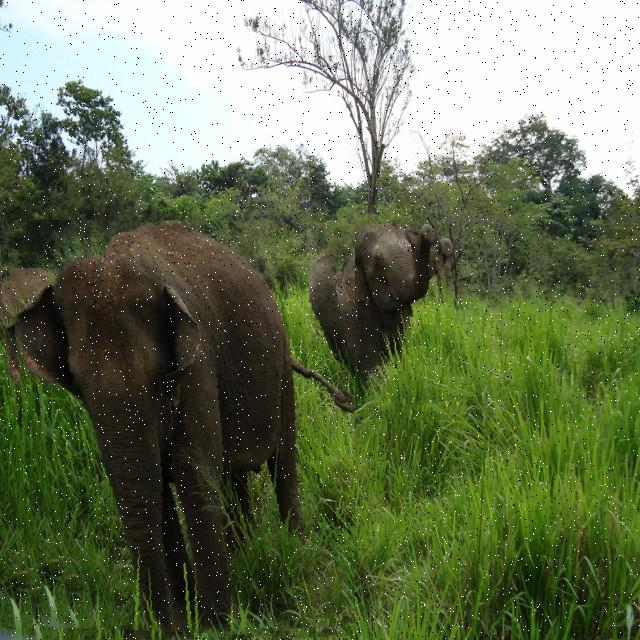elephant: (4, 220, 355, 640), (300, 223, 467, 423)
